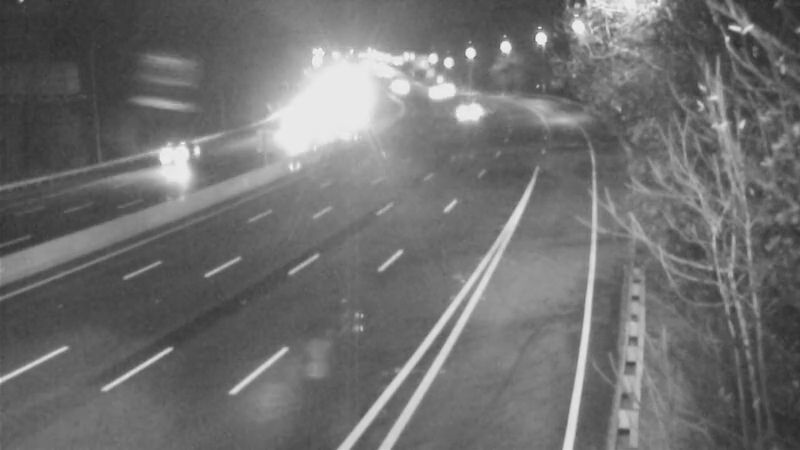vehicle: (130, 118, 210, 198), (412, 62, 462, 112), (442, 85, 492, 135)
